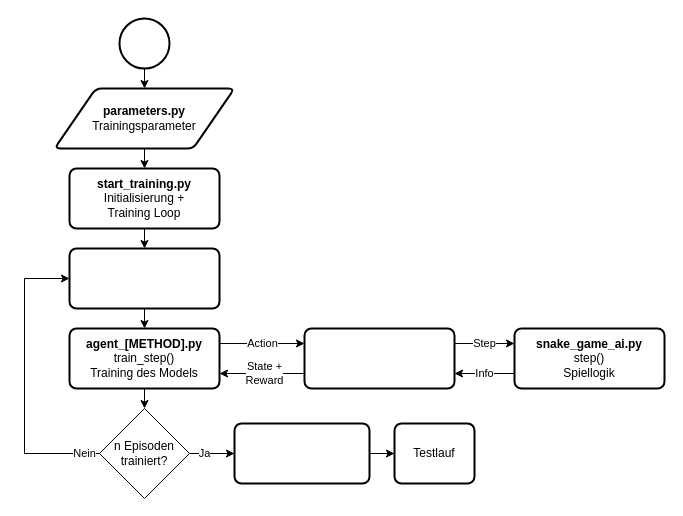
This 683x516 diagram has some shape labels left out. Here are the shapes that lost their labels. From the top down, the box of each, then its label:
(68, 247, 220, 309): start_training.py Starte neue Episode
(303, 327, 455, 389): snake_env.py step() Umwandlung der States
(233, 422, 370, 484): Visualisierung + Speichern der Modelle
